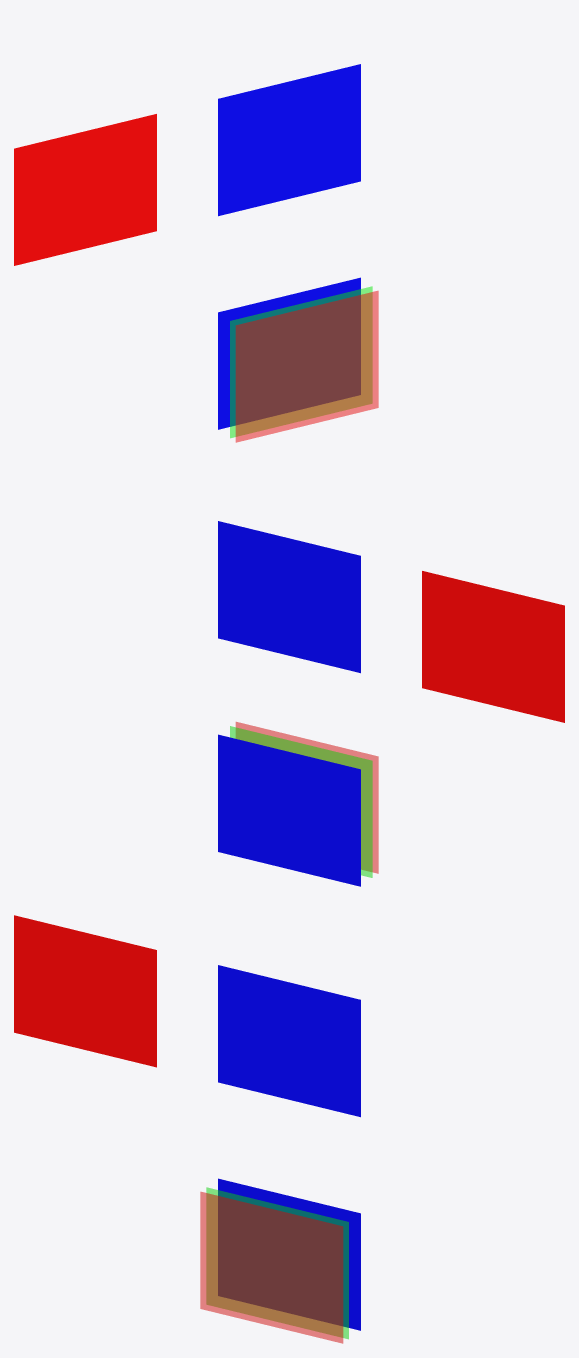
File: RenderProbe-embedded.gltf
3 views of the same model, one above another, from view 1: azimuth 30°, elevation 25°; view 2: azimuth 150°, elevation 25°; view 3: azimuth 330°, elevation 25° (orthographic).
Parts seen in each view (by area): view 1: Instance 3, Instance 1, Instance 0, Instance 4, Instance 5; view 2: Instance 1, Instance 4, Instance 0, Instance 3, Instance 5; view 3: Instance 3, Instance 0, Instance 1, Instance 4, Instance 5.
Part boxes in pixels (bbox=[...]): Instance 3: bbox=[235, 291, 378, 442]; Instance 1: bbox=[218, 64, 360, 216]; Instance 0: bbox=[14, 114, 156, 265]; Instance 4: bbox=[218, 277, 360, 429]; Instance 5: bbox=[230, 286, 372, 438]; Instance 1: bbox=[218, 521, 360, 673]; Instance 4: bbox=[218, 734, 360, 886]; Instance 0: bbox=[422, 571, 564, 722]; Instance 3: bbox=[235, 722, 378, 873]; Instance 5: bbox=[230, 726, 372, 877]; Instance 3: bbox=[200, 1192, 343, 1343]; Instance 0: bbox=[14, 915, 156, 1067]; Instance 1: bbox=[218, 965, 360, 1117]; Instance 4: bbox=[218, 1178, 360, 1330]; Instance 5: bbox=[206, 1187, 348, 1339].
Size of the model in its own units: 5.4 by 3.1 by 0.3.
6 materials, 2 textured.
